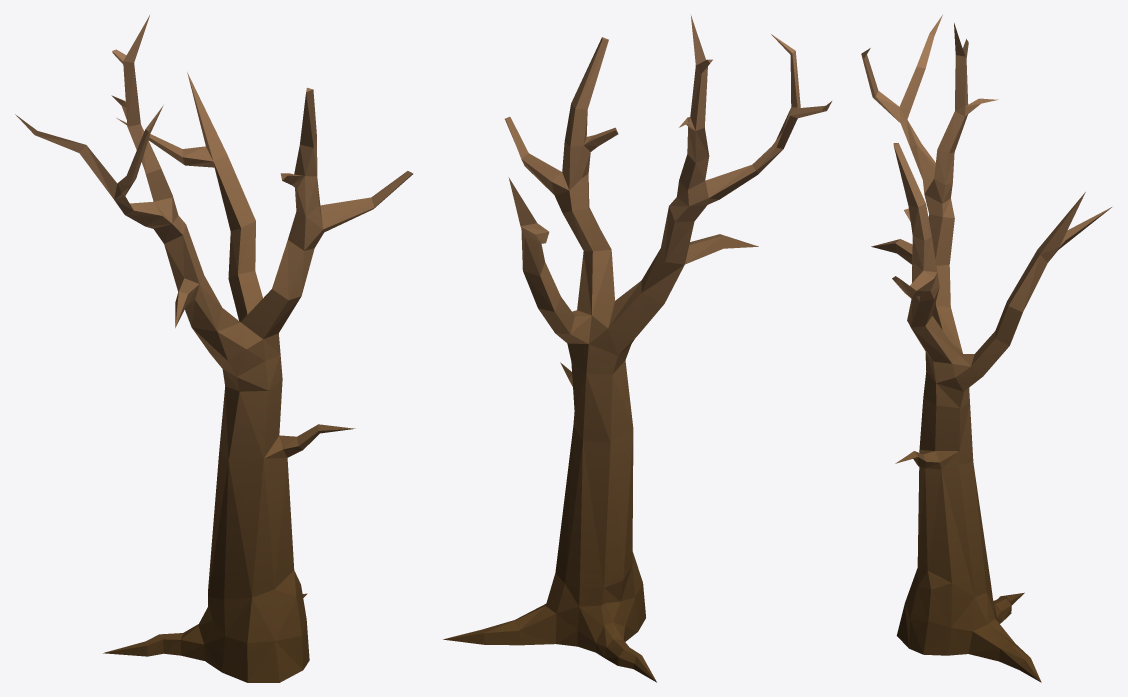
Rendered from ZLP_Plant_L_2.FBX.
The picture shows the model from 3 angles, left to right: view 1: azimuth 30°, elevation 25°; view 2: azimuth 150°, elevation 25°; view 3: azimuth 270°, elevation 25°; orthographic projection. The views are drawn at different scales.
Visible parts, largest first — view 1: ZLP_Plant_L_2; view 2: ZLP_Plant_L_2; view 3: ZLP_Plant_L_2.
Part boxes in pixels (x1,y1,x2,y2): ZLP_Plant_L_2: (15, 15, 413, 682); ZLP_Plant_L_2: (443, 14, 831, 682); ZLP_Plant_L_2: (861, 15, 1111, 682).
Size of the model in its own units: 641 by 1101 by 440.
